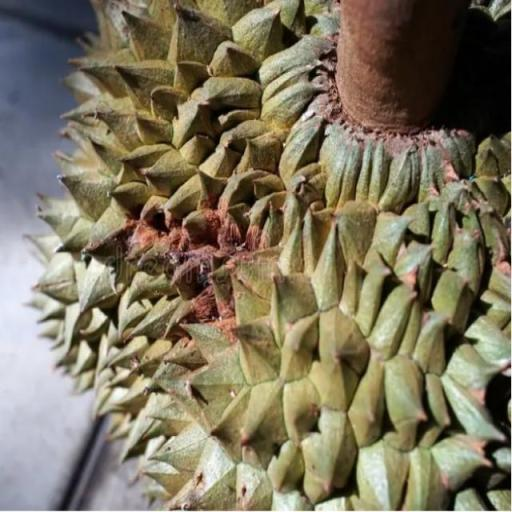rot: (30, 0, 512, 512)
